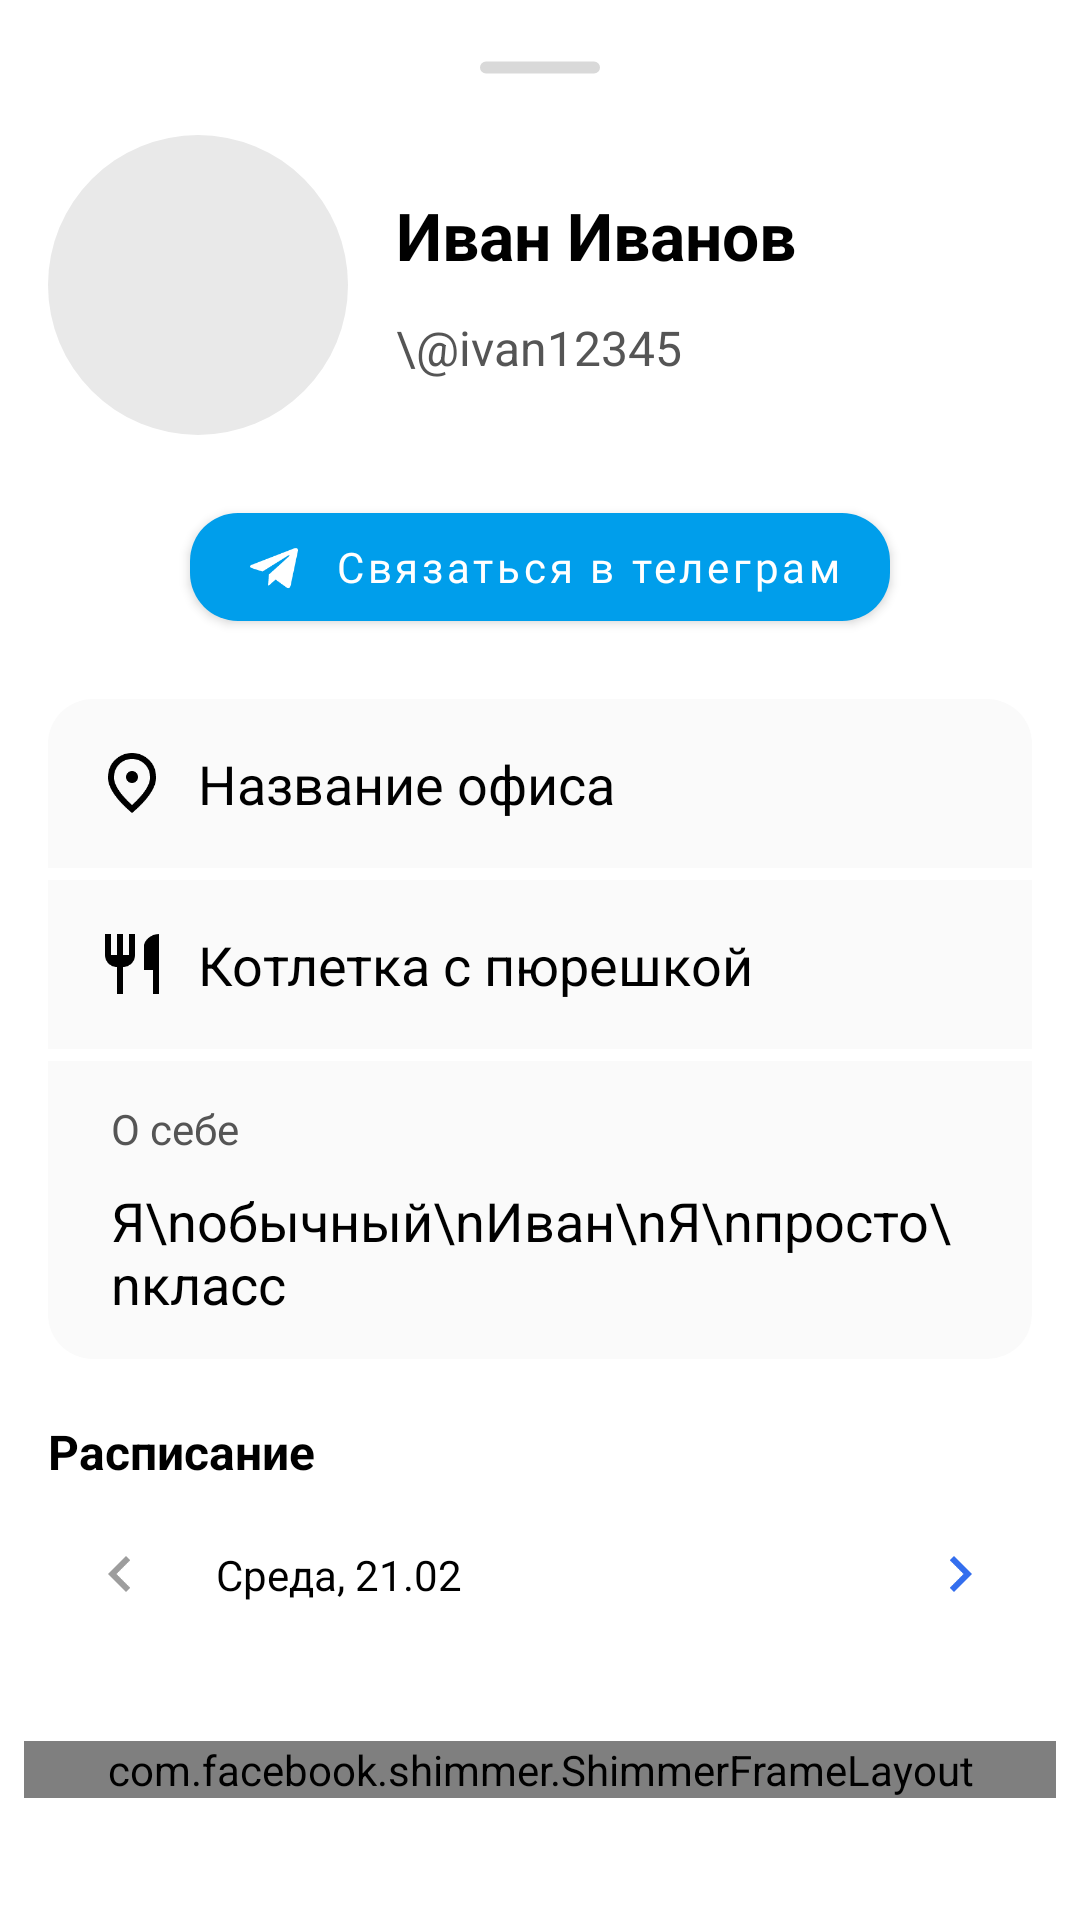

Icons on this 1080px x 1920px Android screen, each with the point to tap as (x,y):
arrow left: (119,1574)
arrow right: (961,1574)
